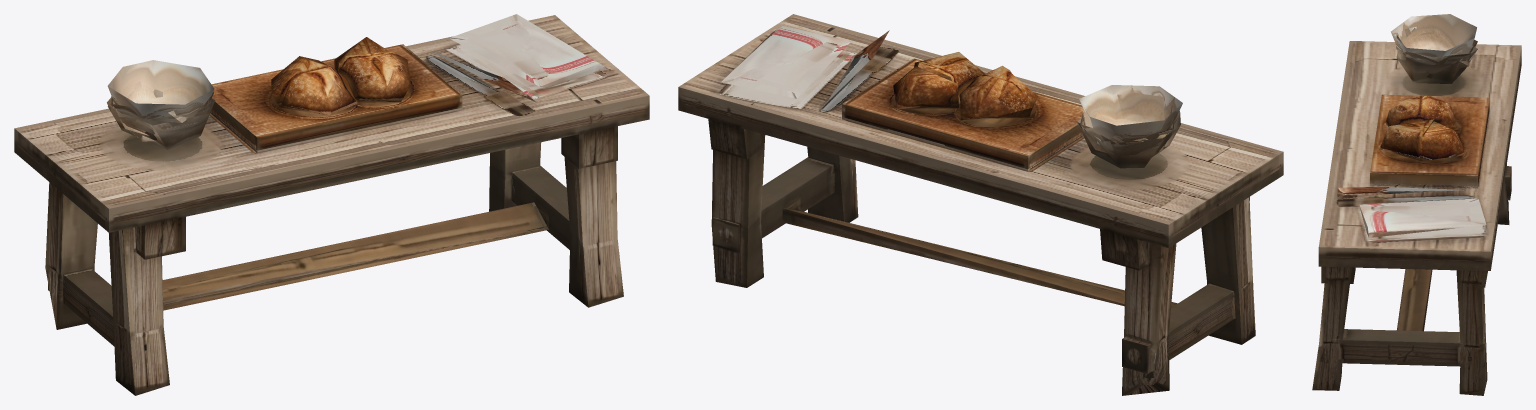
Rendered from act1_kit_v1_kitchen_table.glb.
3 renders of one model, left to right at view 1: azimuth 30°, elevation 25°; view 2: azimuth 150°, elevation 25°; view 3: azimuth 270°, elevation 25°, orthographic. The views are drawn at different scales.
Parts seen in each view (by area): view 1: A24_1_kitchen_table; view 2: A24_1_kitchen_table; view 3: A24_1_kitchen_table.
Boxes of the visible parts, bbox=[...] form: A24_1_kitchen_table: bbox=[14, 14, 649, 395]; A24_1_kitchen_table: bbox=[678, 14, 1283, 395]; A24_1_kitchen_table: bbox=[1312, 14, 1521, 395].
Bounding box in the file's own units: 1 × 0.4611 × 0.4197.
1 material, 1 textured.
